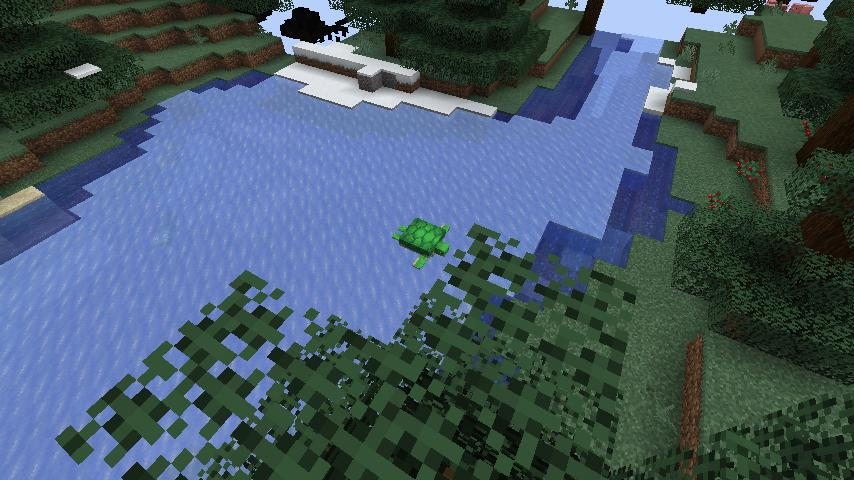pig: (788, 1, 814, 18), (762, 0, 789, 9)
turtle: (389, 215, 454, 270)
